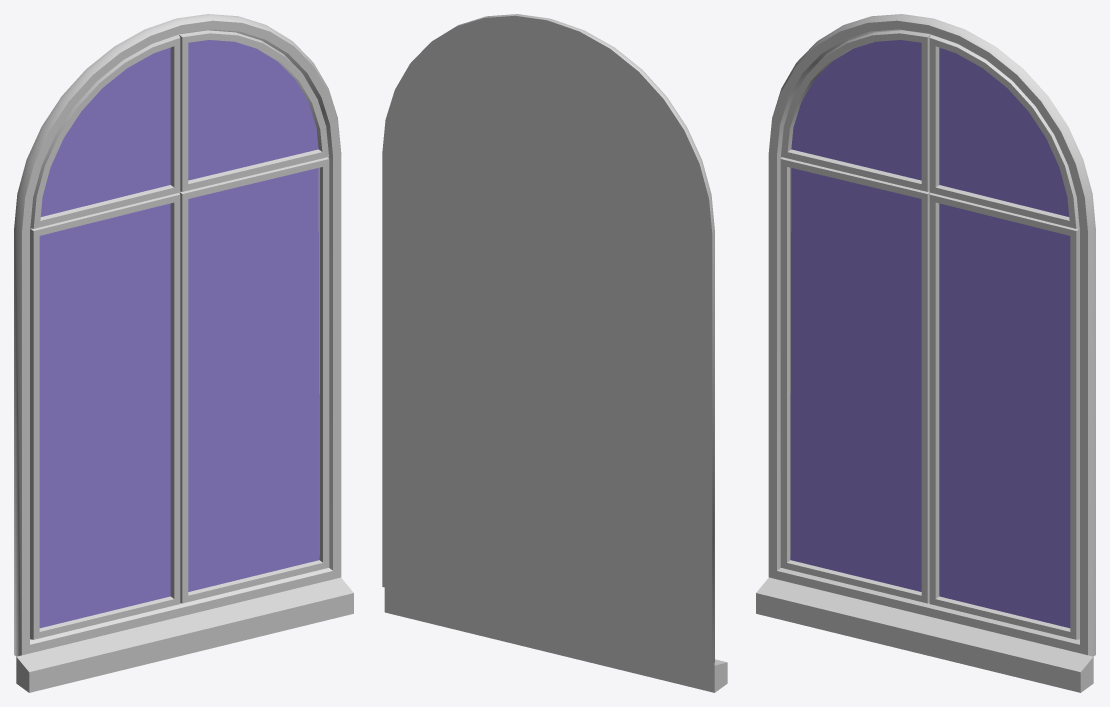
File: SP_House06_DoorWindow01.fbx
3 views of the same model, side by side, from view 1: azimuth 30°, elevation 25°; view 2: azimuth 150°, elevation 25°; view 3: azimuth 330°, elevation 25° (orthographic).
Parts seen in each view (by area): view 1: SP_House06_DoorWindow01; view 2: SP_House06_DoorWindow01; view 3: SP_House06_DoorWindow01.
Boxes of the visible parts, <box> form: SP_House06_DoorWindow01: <box>14,14,353,692</box>; SP_House06_DoorWindow01: <box>382,14,727,692</box>; SP_House06_DoorWindow01: <box>756,14,1095,692</box>.
Size of the model in its own units: 0.9096 by 1.67 by 0.0737.
